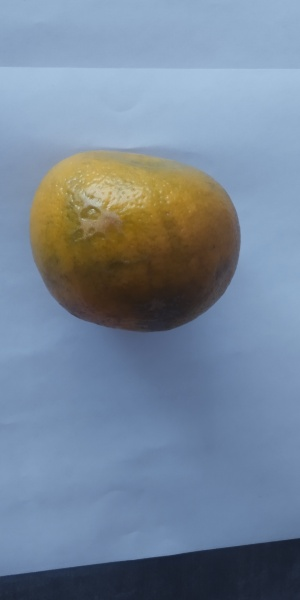BAD: (31, 146, 241, 336)
